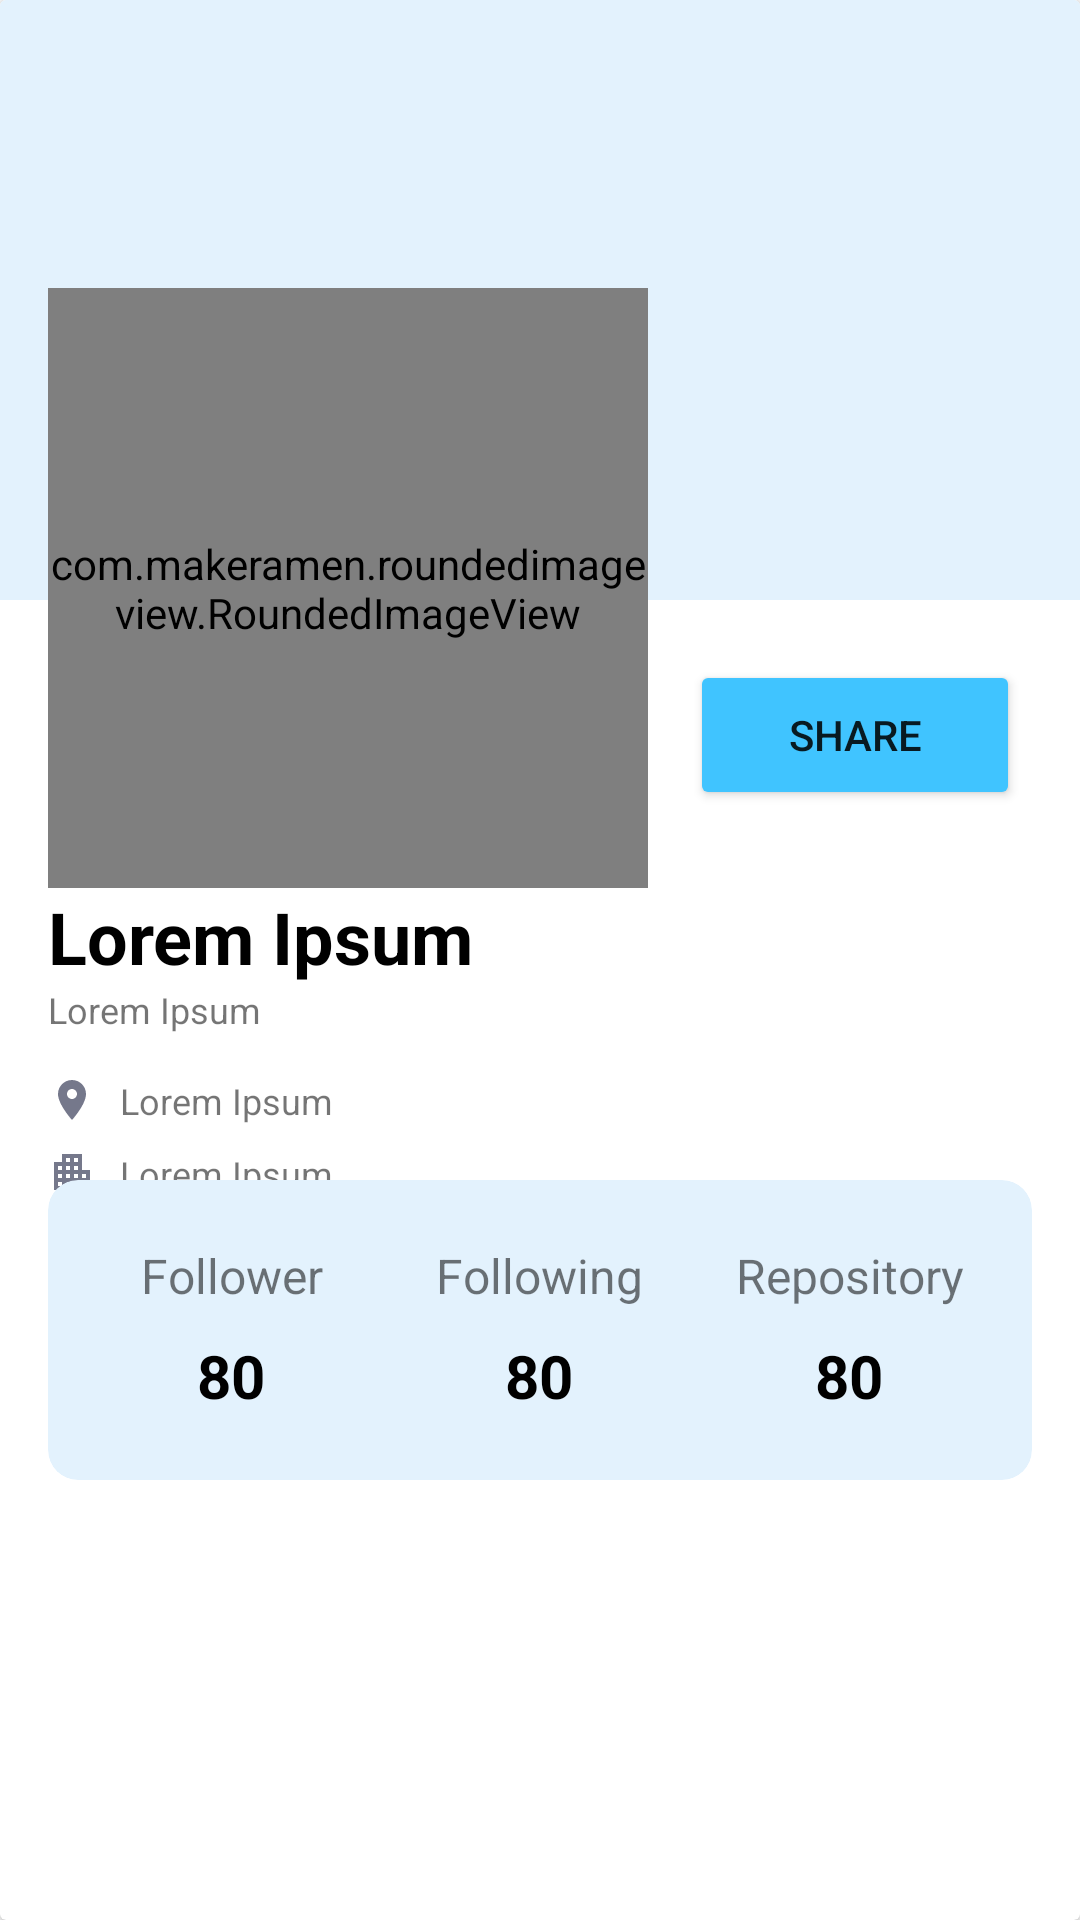

Named icons in this screenshot (1080w x 1920h) and their centers, (x=x, y=y):
apartment: (x=74, y=1175)
location on: (x=72, y=1100)
